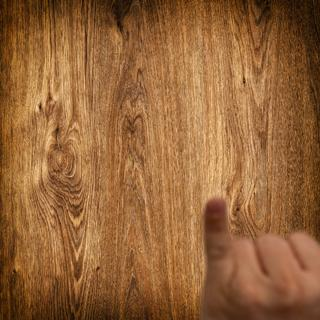FINE: (194, 193, 320, 320)
